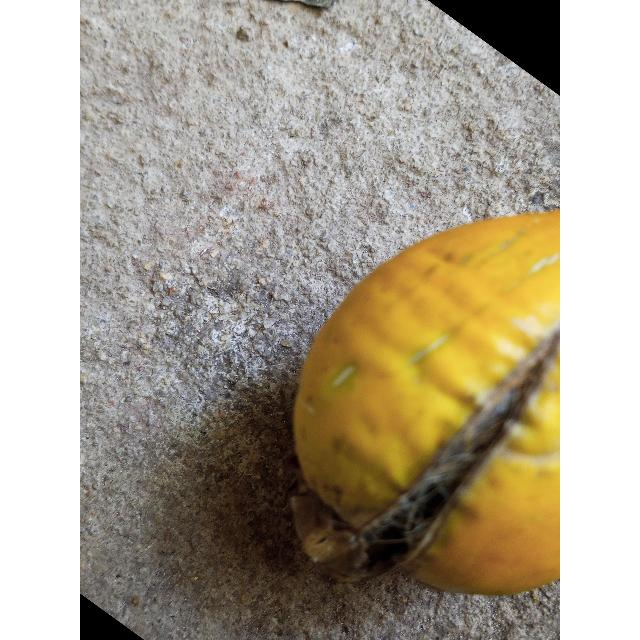damaged: (291, 210, 560, 595)
